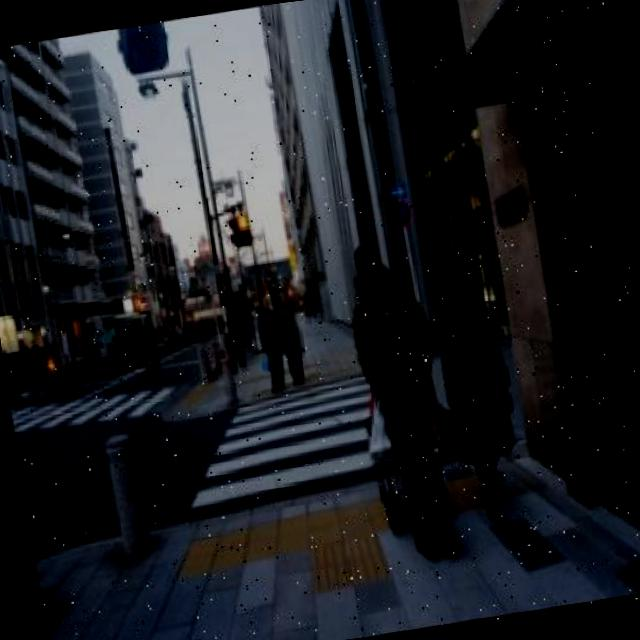Person: (340, 234, 464, 573), (424, 243, 533, 532), (252, 293, 290, 392), (274, 292, 310, 387)
